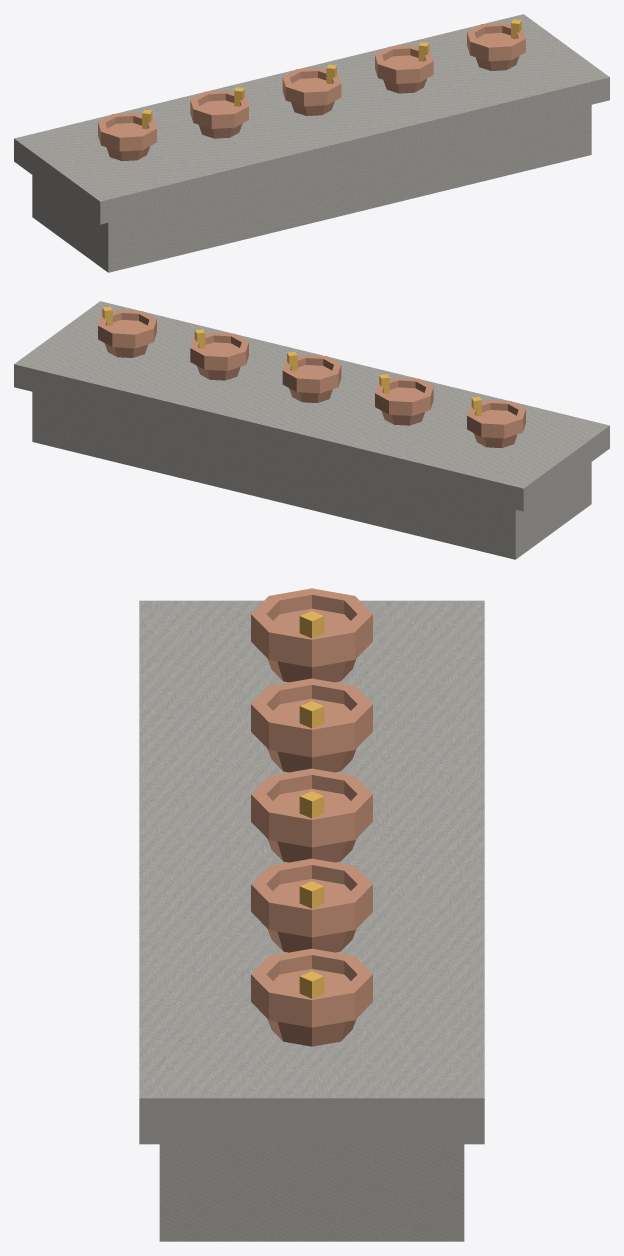
Rendered from indian-bazaar-street-and-temple-oil-lamp-row-dd729002__36540.glb.
The picture shows the model from 3 angles, top to bottom: view 1: azimuth 30°, elevation 25°; view 2: azimuth 150°, elevation 25°; view 3: azimuth 270°, elevation 25°; orthographic projection. The views are drawn at different scales.
Parts seen in each view (by area): view 1: oil-lamp-row-stone, oil-lamp-row-terracotta, oil-lamp-row-saffron; view 2: oil-lamp-row-stone, oil-lamp-row-terracotta, oil-lamp-row-saffron; view 3: oil-lamp-row-stone, oil-lamp-row-terracotta, oil-lamp-row-saffron.
Part boxes in pixels (x1,y1,x2,y2): oil-lamp-row-stone: (14, 14, 609, 272); oil-lamp-row-terracotta: (98, 23, 525, 161); oil-lamp-row-saffron: (142, 19, 521, 129); oil-lamp-row-stone: (14, 301, 609, 559); oil-lamp-row-terracotta: (98, 310, 525, 448); oil-lamp-row-saffron: (102, 306, 481, 416); oil-lamp-row-stone: (139, 600, 484, 1241); oil-lamp-row-terracotta: (251, 588, 372, 1046); oil-lamp-row-saffron: (299, 611, 324, 998).
Bounding box in the file's own units: 1.16 × 0.2488 × 0.34.
3 materials, 1 textured.
